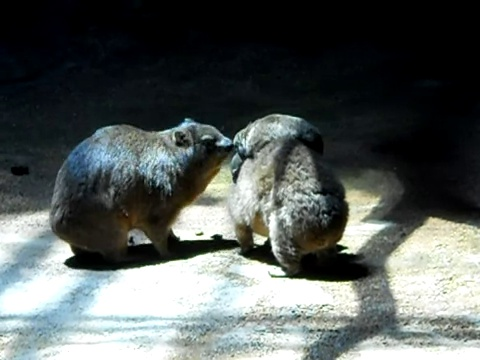Rock Hyrex: (52, 119, 236, 265), (233, 116, 348, 280)
